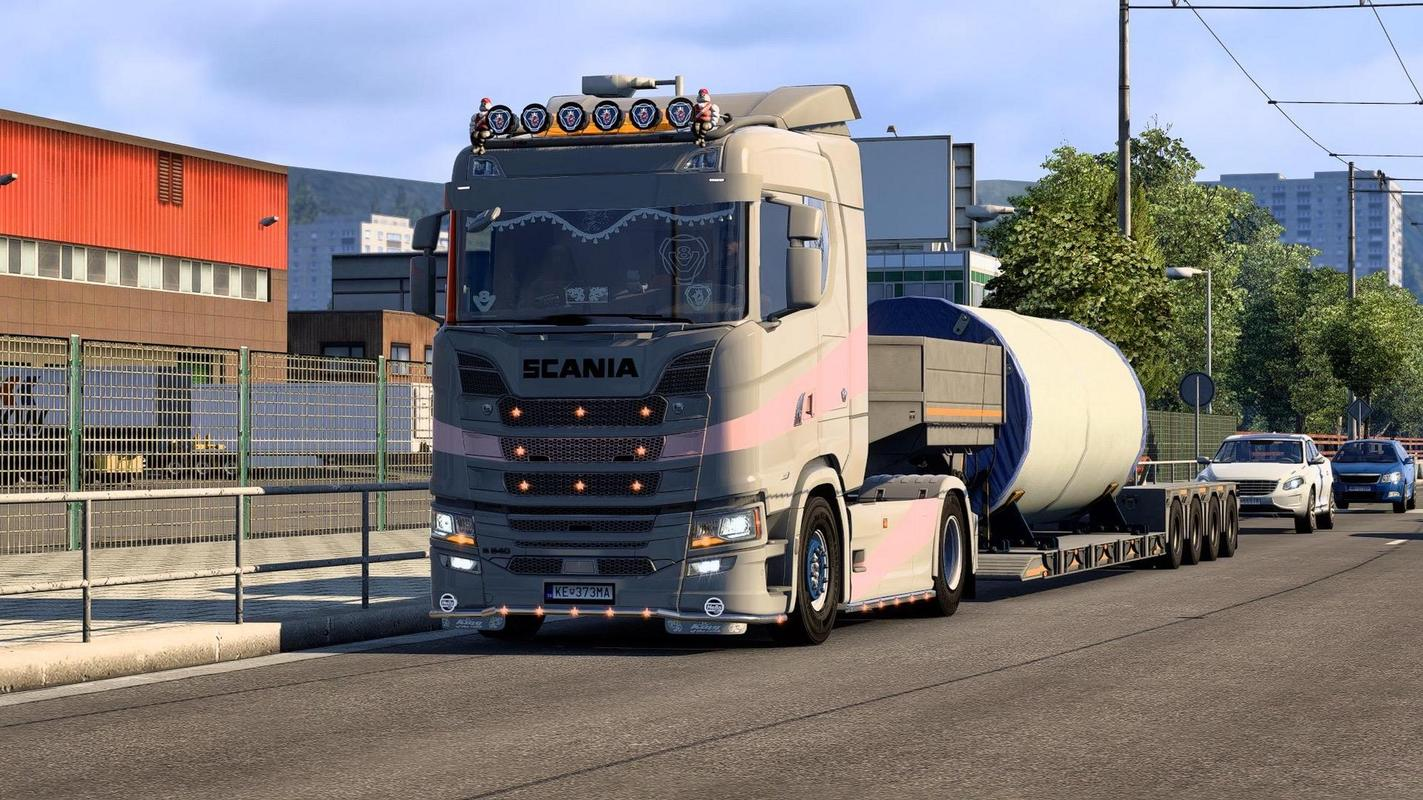卡车: (421, 81, 1242, 650)
